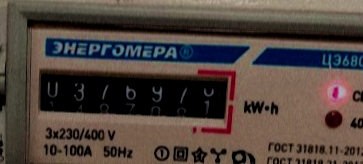0: (45, 75, 59, 98)
1: (201, 97, 213, 117)
3: (73, 80, 87, 101)
6: (124, 77, 139, 100)
7: (98, 77, 113, 102), (176, 81, 191, 105)
9: (150, 80, 164, 102)
screen: (30, 55, 241, 136)
